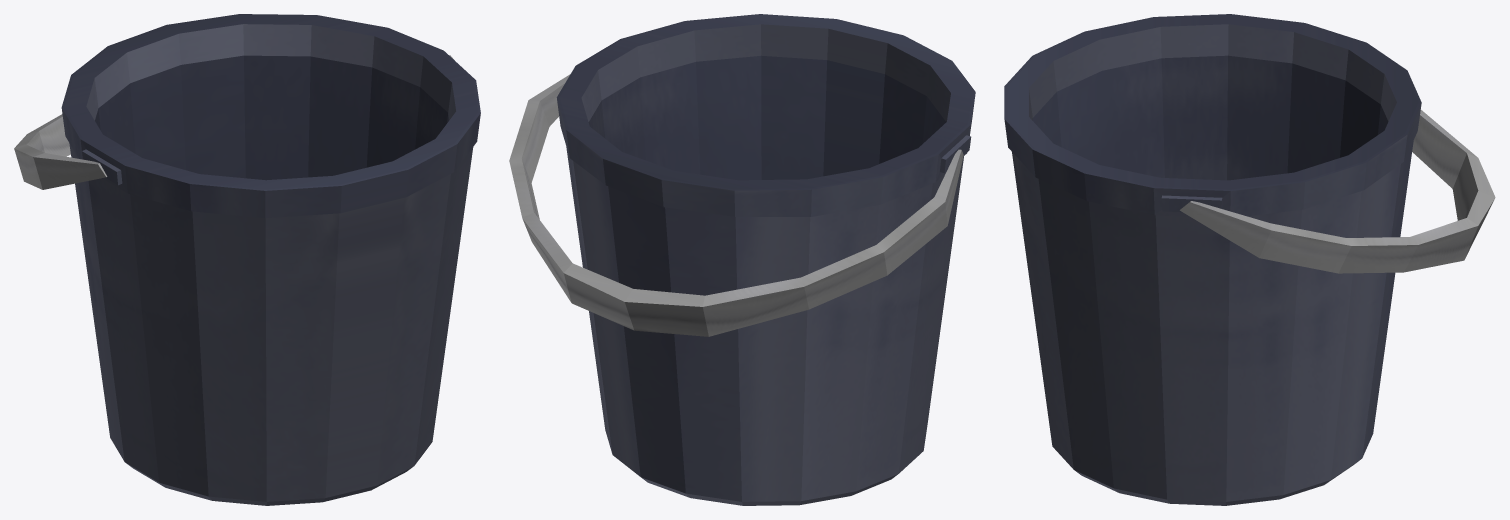
File: Bucket.fbx
3 views of the same model, side by side, from view 1: azimuth 30°, elevation 25°; view 2: azimuth 150°, elevation 25°; view 3: azimuth 270°, elevation 25° (orthographic).
Visible parts, largest first — view 1: Buckeet; view 2: Buckeet; view 3: Buckeet.
Part boxes in pixels (<box>): Buckeet: <box>14,14,480,505</box>; Buckeet: <box>509,14,975,505</box>; Buckeet: <box>1004,14,1495,505</box>.
Size of the model in its own units: 2.78 by 2.16 by 2.83.
